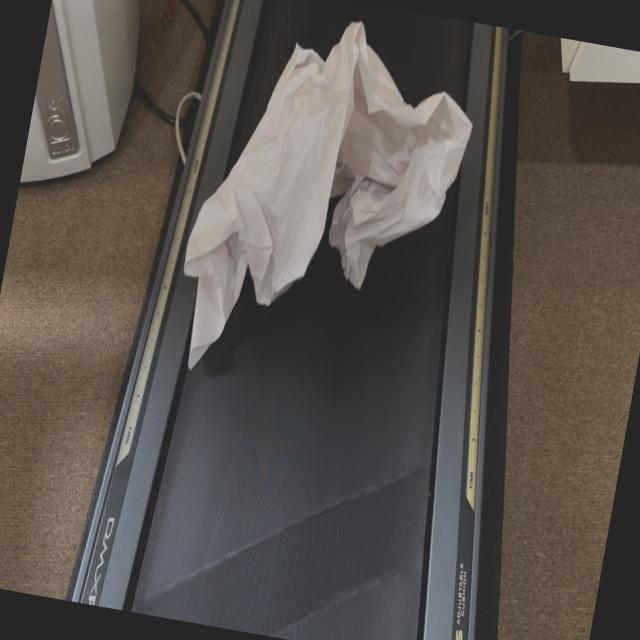Recycle: (164, 0, 489, 413)
